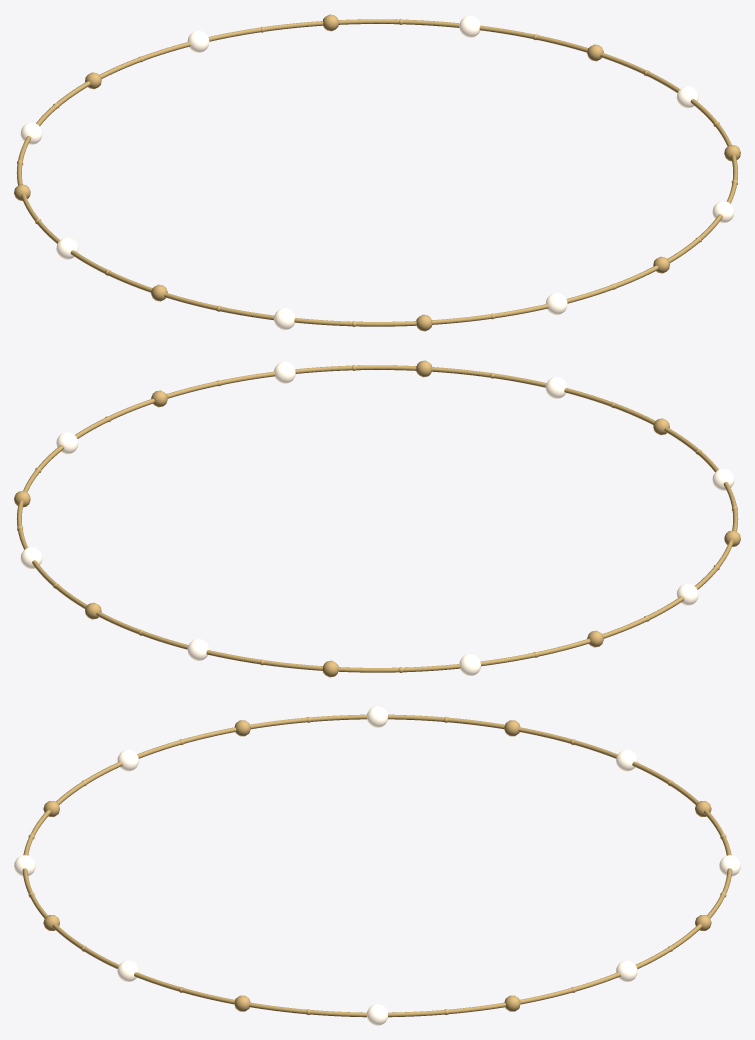
The model's file is orbit-ring.glb.
3 renders of one model, top to bottom at view 1: azimuth 30°, elevation 25°; view 2: azimuth 150°, elevation 25°; view 3: azimuth 270°, elevation 25°, orthographic.
Parts seen in each view (by area): view 1: OrbitRing; view 2: OrbitRing; view 3: OrbitRing.
Boxes of the visible parts, x1,y1,x2,y2 form: OrbitRing: [14, 14, 740, 331]; OrbitRing: [14, 360, 740, 677]; OrbitRing: [14, 706, 740, 1025].
Size of the model in its own units: 5 by 0.1502 by 5.
